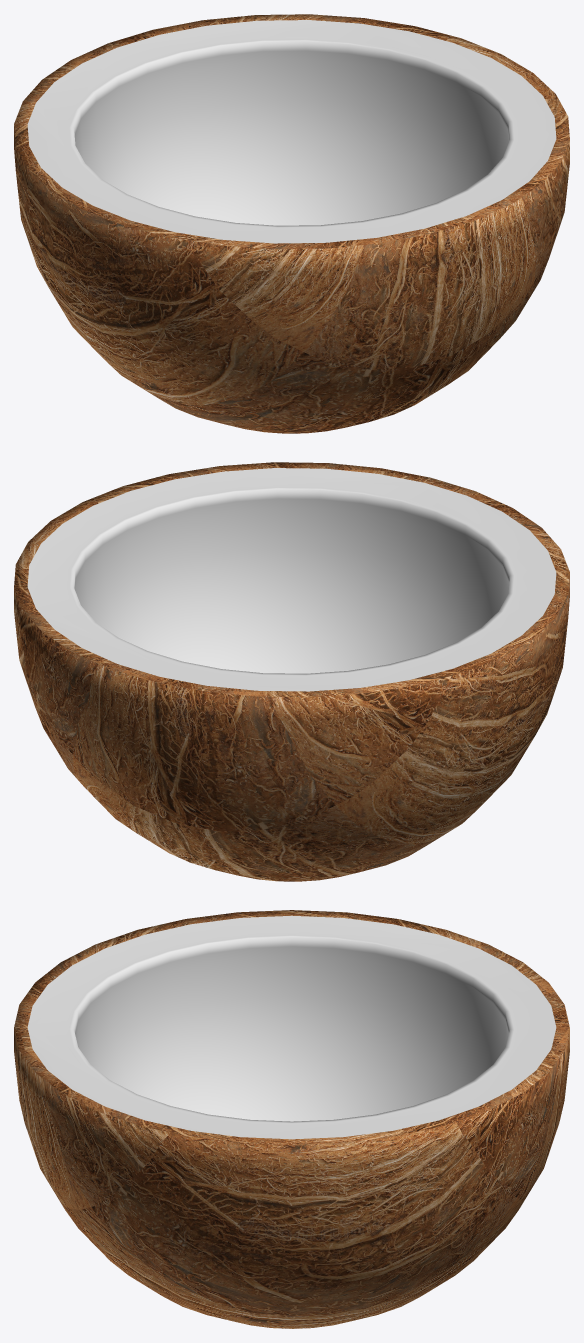
File: CoconutHalf.fbx
The picture shows the model from 3 angles, top to bottom: view 1: azimuth 30°, elevation 25°; view 2: azimuth 150°, elevation 25°; view 3: azimuth 270°, elevation 25°; orthographic projection.
Parts seen in each view (by area): view 1: Brown, coconut white; view 2: Brown, coconut white; view 3: Brown, coconut white.
Part boxes in pixels (<box>): Brown: <box>14,14,569,433</box>; coconut white: <box>27,20,556,243</box>; Brown: <box>14,462,569,881</box>; coconut white: <box>27,468,556,691</box>; Brown: <box>14,910,569,1328</box>; coconut white: <box>27,915,556,1139</box>.
Bounding box in the file's own units: 200 × 109 × 200.
